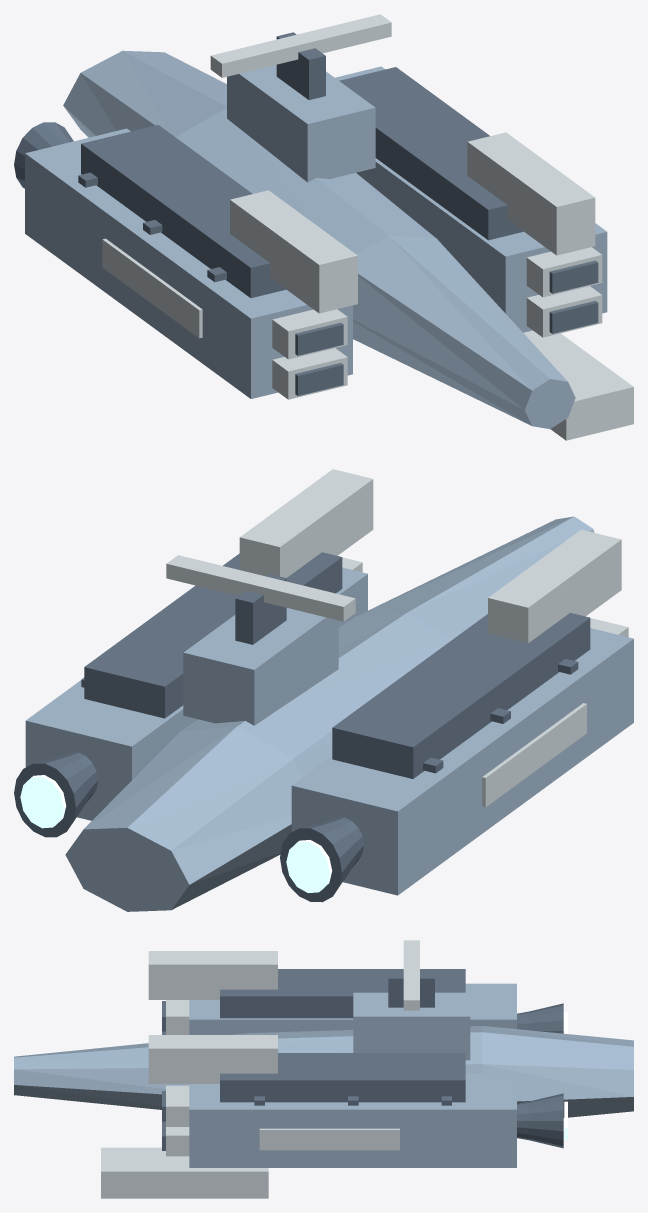
3 views of the same model, one above another, from view 1: azimuth 30°, elevation 25°; view 2: azimuth 150°, elevation 25°; view 3: azimuth 270°, elevation 25° (orthographic). The views are drawn at different scales.
Bounding box in the file's own units: 9.39 × 6.35 × 19.16.
